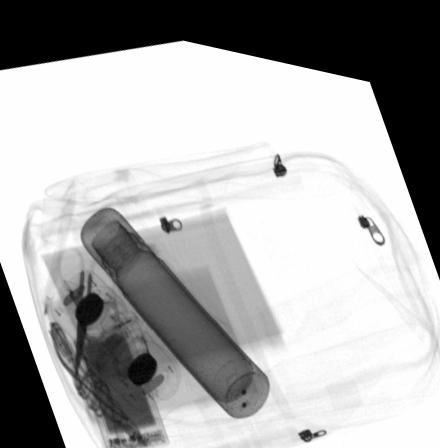Powerbank: (66, 317, 169, 448)
Scissors: (54, 240, 117, 377)
